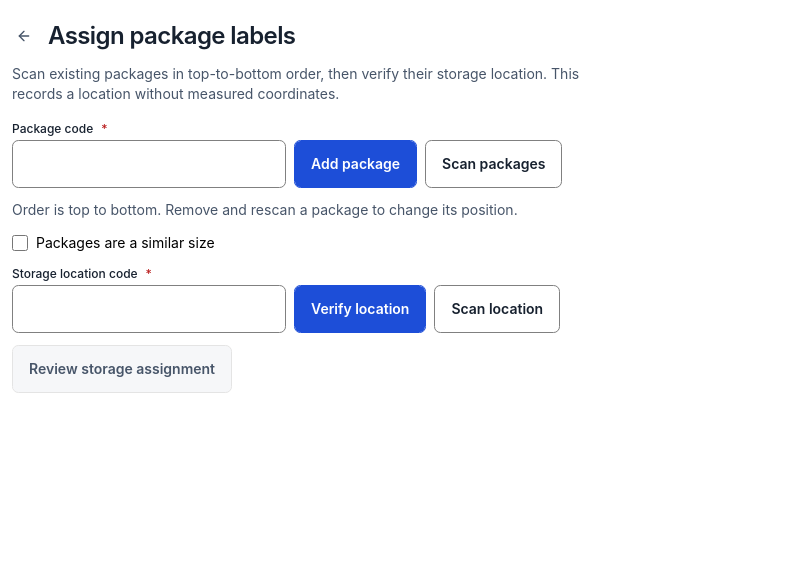
Test: rejects a package from another batch without losing the selected group
This screenshot has width=797, height=588.
Type "P-A" into the field labelled "Package code" at (149, 164), box [12,140,286,188]
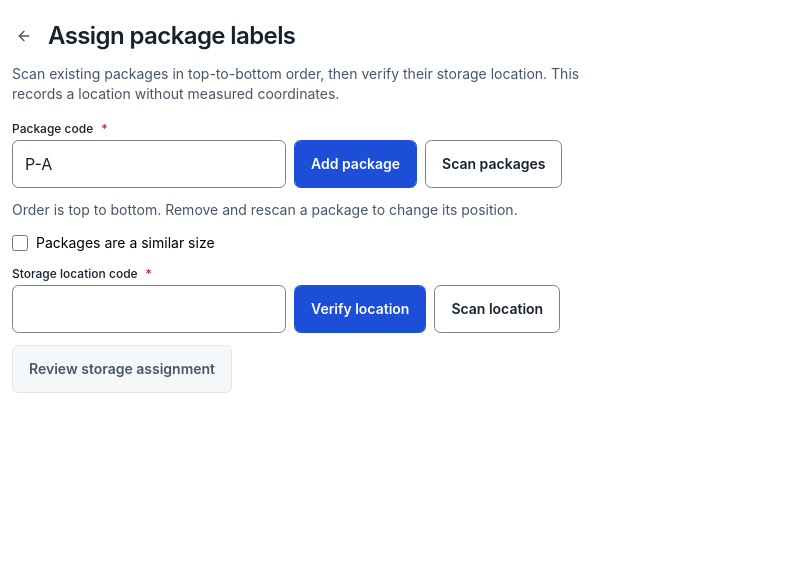
Click the button "Add package" at (356, 164), box [294,140,417,188]
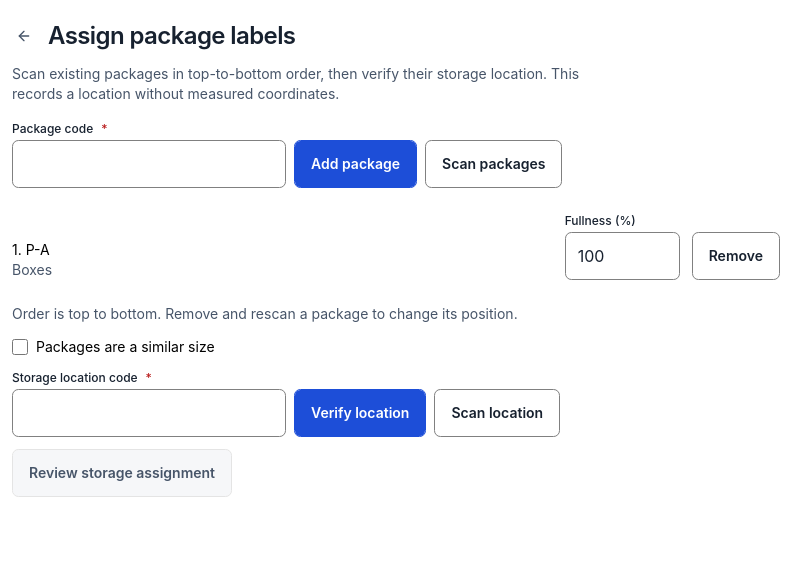
Result: the number field labelled "Fullness (%)" holds "100" at [565,232,680,280]
Type "OTHER" into the field labelled "Package code" at (149, 164), box [12,140,286,188]
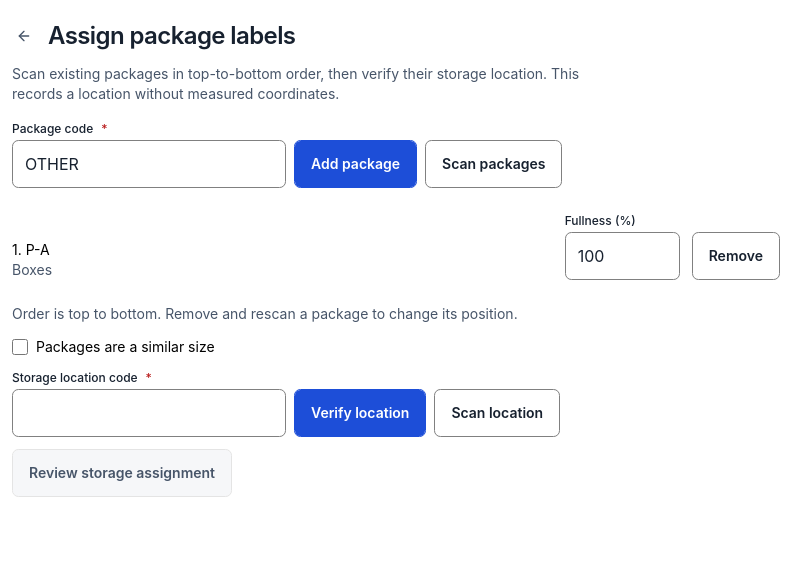
Click the button "Add package" at (356, 164), box [294,140,417,188]
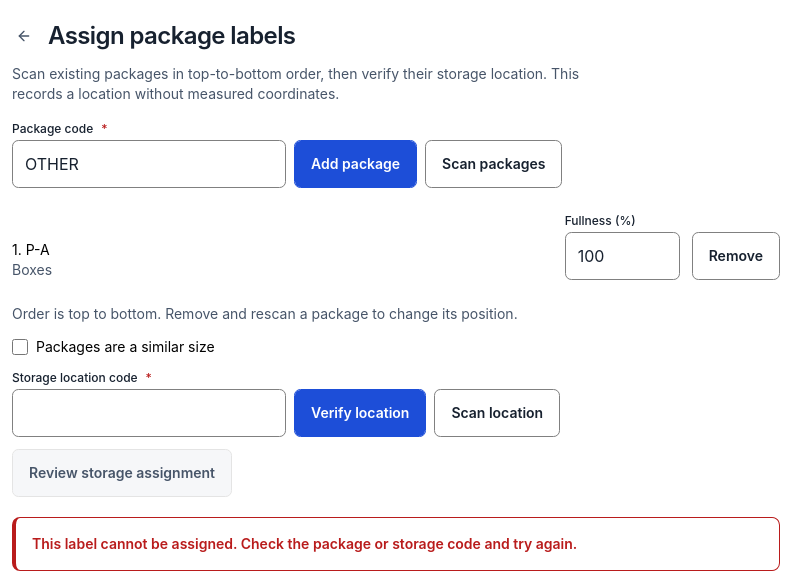
Result: the number of number fields is 1 at [565,232,680,280]
Result: the message shows "This label cannot be assigned" at [32,535,577,552]
